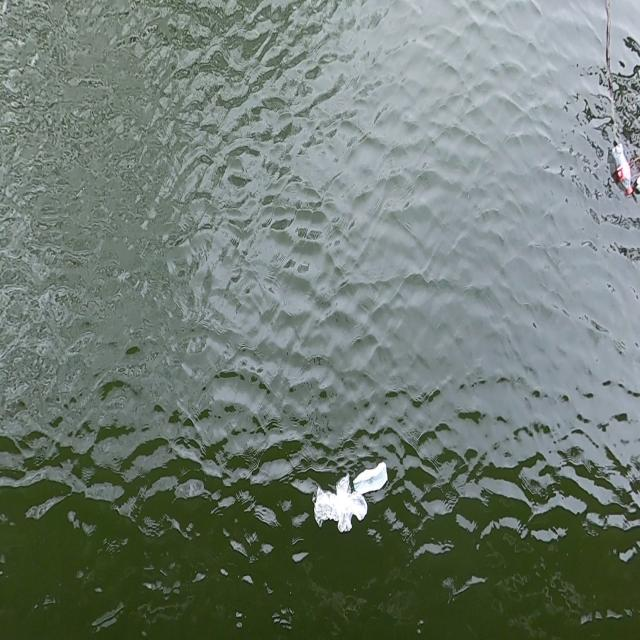Sac plastique: (308, 474, 371, 535)
